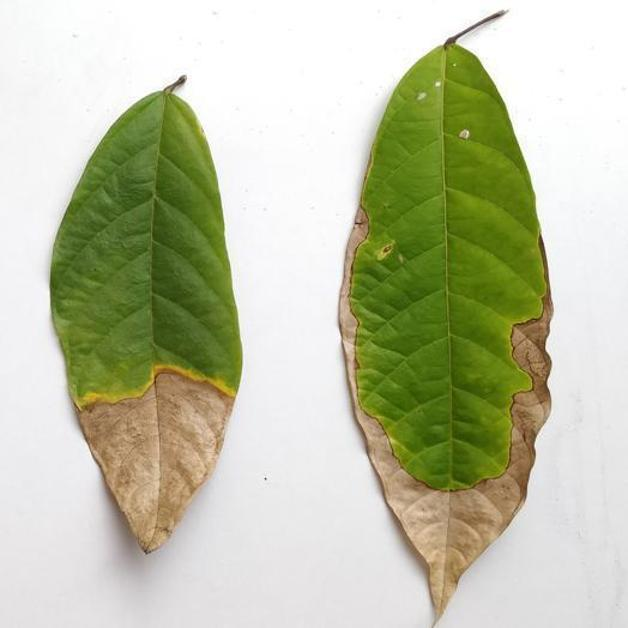Potassium: (341, 11, 551, 617), (51, 76, 241, 552)
